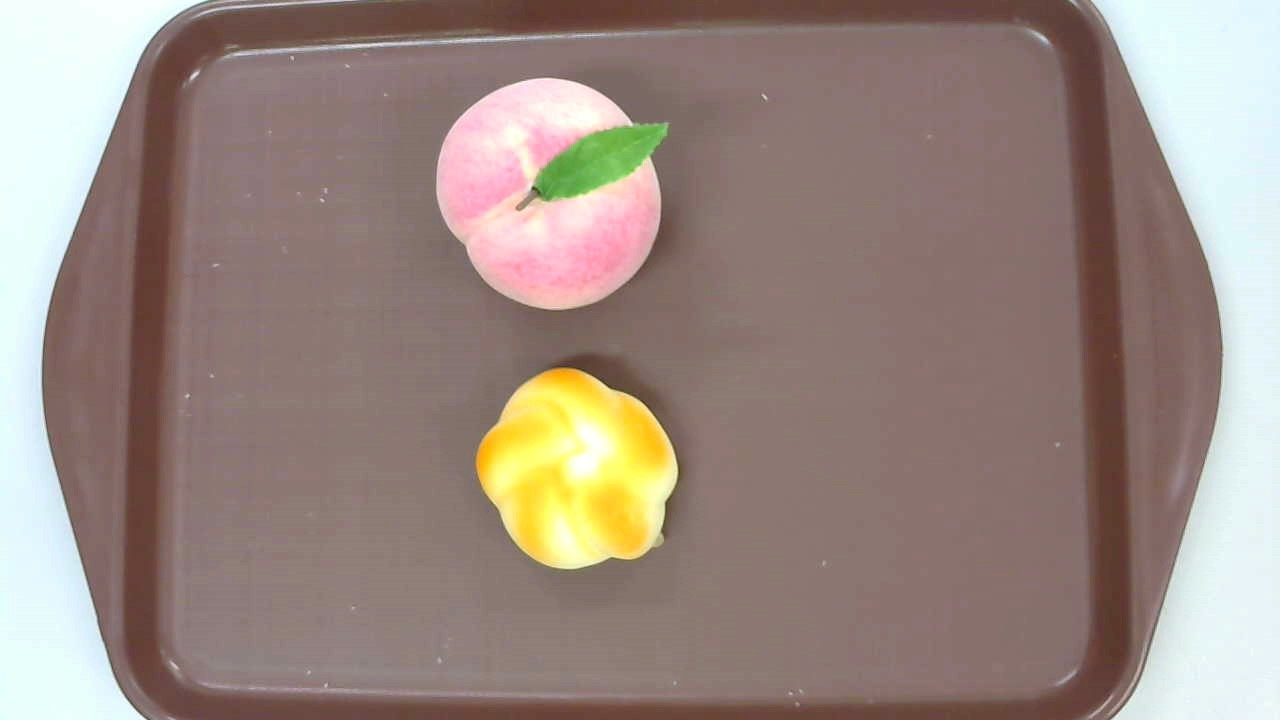peach: (435, 78, 672, 312)
twist bread: (475, 366, 679, 570)
